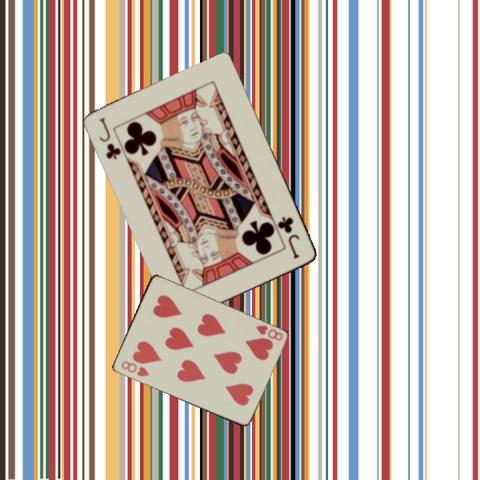8h: (118, 358, 151, 378), (252, 322, 284, 342)
Jc: (96, 115, 123, 161), (277, 213, 302, 260)
